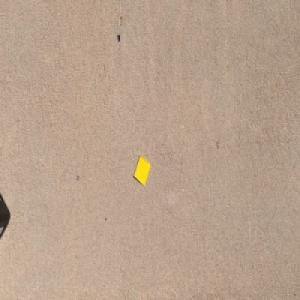PlasticPart: (133, 153, 151, 186)
